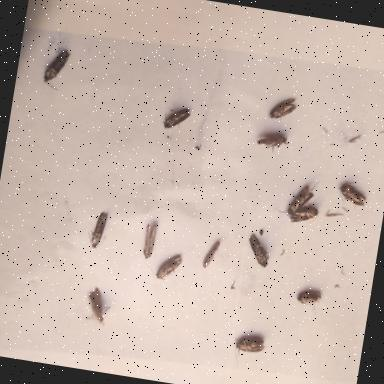pbw: (79, 281, 115, 333), (280, 175, 318, 224), (39, 40, 73, 94), (264, 85, 302, 126), (228, 328, 271, 364), (83, 206, 115, 254), (150, 246, 186, 288), (242, 228, 276, 271), (250, 128, 294, 158), (159, 99, 195, 134), (138, 216, 164, 264), (285, 200, 323, 232), (333, 180, 372, 210), (294, 280, 324, 316), (199, 236, 224, 274)
